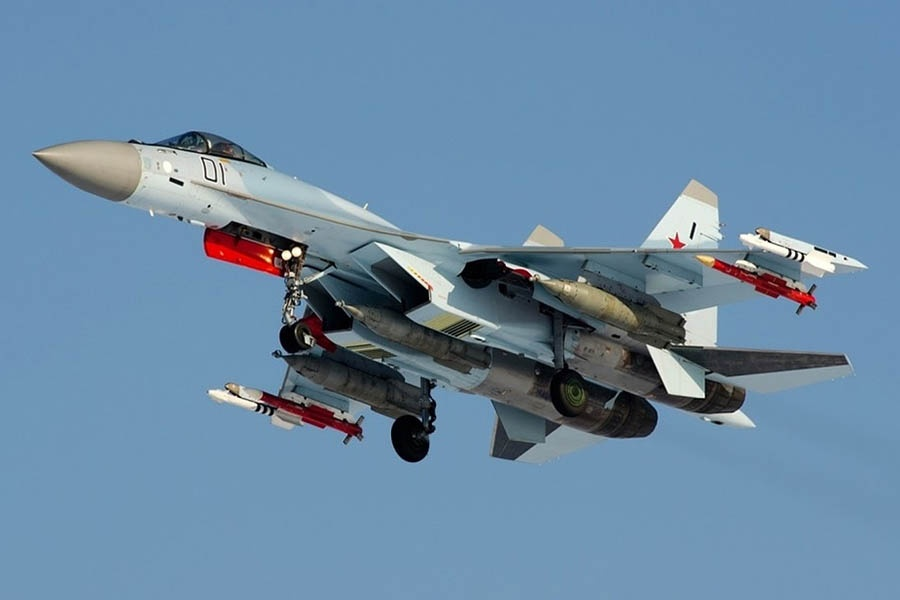airplane: (21, 123, 867, 462)
